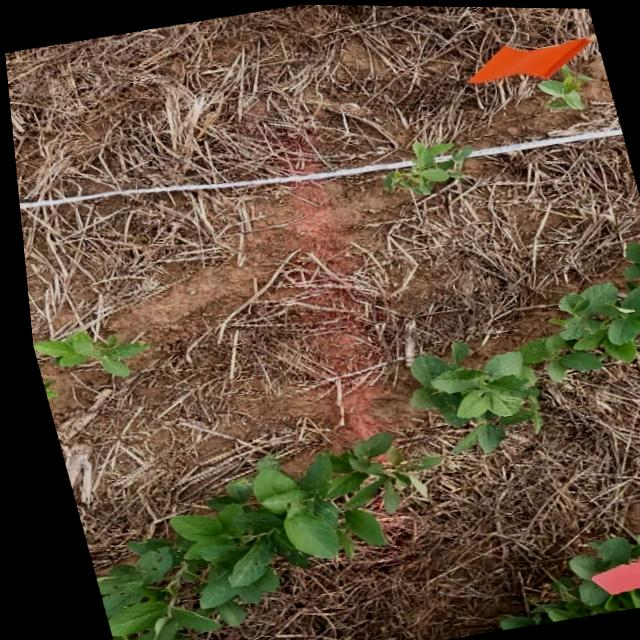soy_plant: (84, 430, 430, 640), (403, 277, 640, 448), (489, 533, 640, 628), (26, 330, 140, 375), (380, 139, 467, 192)
